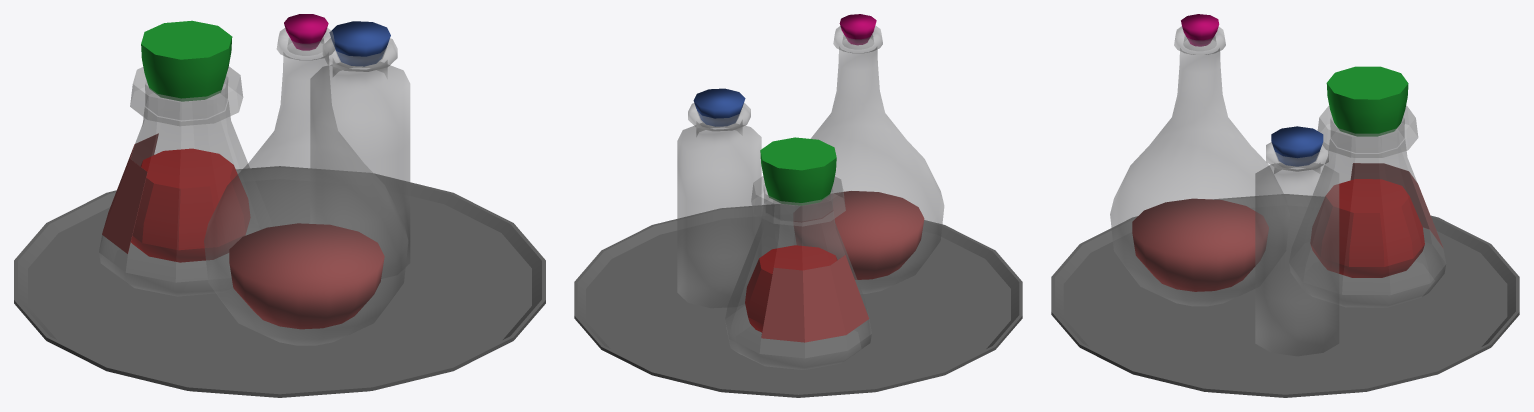
File: SetPocionesFBX.FBX
3 views of the same model, side by side, from view 1: azimuth 30°, elevation 25°; view 2: azimuth 150°, elevation 25°; view 3: azimuth 270°, elevation 25° (orthographic). The views are drawn at different scales.
Visible parts, largest first — view 1: Bandeja, Pocion Alargada, Pocion Redonda, Pocionectangular; view 2: Bandeja, Pocion Redonda, Pocion Alargada, Pocionectangular; view 3: Bandeja, Pocion Alargada, Pocion Redonda, Pocionectangular.
Part boxes in pixels (x1=…): Bandeja: x1=14, y1=166, x2=545, y2=397; Pocion Alargada: x1=204, y1=14, x2=408, y2=345; Pocion Redonda: x1=99, y1=20, x2=271, y2=296; Pocionectangular: x1=310, y1=21, x2=410, y2=278; Bandeja: x1=574, y1=204, x2=1022, y2=397; Pocion Redonda: x1=725, y1=137, x2=871, y2=369; Pocion Alargada: x1=773, y1=14, x2=944, y2=293; Pocionectangular: x1=677, y1=88, x2=761, y2=308; Bandeja: x1=1051, y1=194, x2=1519, y2=397; Pocion Alargada: x1=1110, y1=14, x2=1289, y2=306; Pocion Redonda: x1=1289, y1=66, x2=1446, y2=307; Pocionectangular: x1=1255, y1=126, x2=1339, y2=356.
Size of the model in its own units: 215 by 135 by 212.
